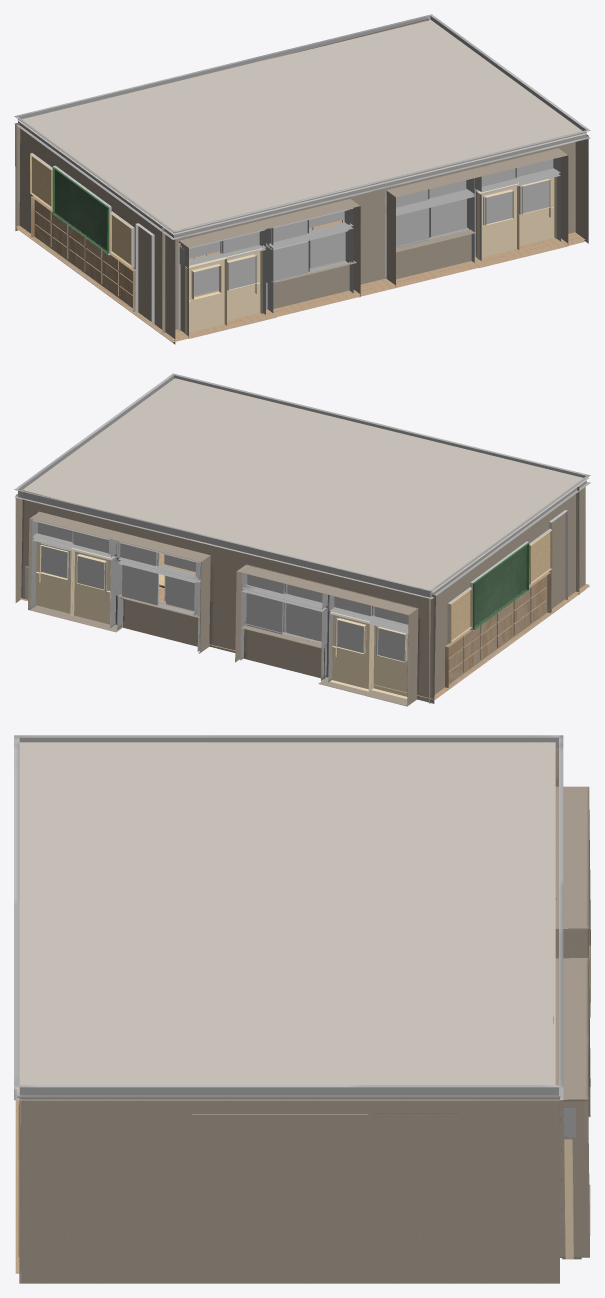
Rendered from layout2.gltf.
3 renders of one model, top to bottom at view 1: azimuth 30°, elevation 25°; view 2: azimuth 150°, elevation 25°; view 3: azimuth 270°, elevation 25°, orthographic. The views are drawn at different scales.
Parts seen in each view (by area): view 1: ROOF:polySurface21, DER_StingrayPBS2_0, BORDE_METAL, NORTHANDSOUTH, MUEBLET2, FLOOR_StingrayPBS10_0.001, TRAS_VERDE, MARCO_DER_N, MARCO_DER_N2, PUERTA_4, PUERTA_3, PUERTA_5 (+18 smaller); view 2: ROOF:polySurface21, DER_StingrayPBS2_0.001, BORDE_METAL, NORTHANDSOUTH, MUEBLET2, TRAS_VERDE, MARCO_DER_N2_StingrayPBS1_0.001, MARCO_DER_N_StingrayPBS1_0.001, PUERTA_3_StingrayPBS9_0.001, PUERTA_5_StingrayPBS9_0.001, PUERTA_4_StingrayPBS9_0.001, PUERTA_1_StingrayPBS9_0.001 (+14 smaller); view 3: ROOF:polySurface21, NORTHANDSOUTH, BORDE_METAL, DER_StingrayPBS2_0.001, PUERTA_4_StingrayPBS9_0.001, DETALLE.
Part boxes in pixels (bbox=[...]): ROOF:polySurface21: bbox=[17, 19, 586, 234]; DER_StingrayPBS2_0: bbox=[162, 142, 575, 338]; BORDE_METAL: bbox=[14, 14, 590, 239]; NORTHANDSOUTH: bbox=[19, 128, 588, 344]; MUEBLET2: bbox=[31, 196, 135, 311]; FLOOR_StingrayPBS10_0.001: bbox=[16, 219, 585, 340]; TRAS_VERDE: bbox=[52, 167, 109, 253]; MARCO_DER_N: bbox=[385, 148, 560, 278]; MARCO_DER_N2: bbox=[178, 208, 353, 330]; PUERTA_4: bbox=[185, 257, 226, 335]; PUERTA_3: bbox=[477, 183, 519, 259]; PUERTA_5: bbox=[225, 248, 262, 320]; ROOF:polySurface21: bbox=[22, 378, 589, 592]; DER_StingrayPBS2_0.001: bbox=[21, 490, 435, 706]; BORDE_METAL: bbox=[14, 373, 590, 599]; NORTHANDSOUTH: bbox=[15, 487, 585, 703]; MUEBLET2: bbox=[445, 572, 550, 687]; TRAS_VERDE: bbox=[473, 543, 529, 629]; MARCO_DER_N2_StingrayPBS1_0.001: bbox=[31, 513, 200, 651]; MARCO_DER_N_StingrayPBS1_0.001: bbox=[240, 564, 416, 682]; PUERTA_3_StingrayPBS9_0.001: bbox=[330, 611, 371, 691]; PUERTA_5_StingrayPBS9_0.001: bbox=[70, 548, 112, 624]; PUERTA_4_StingrayPBS9_0.001: bbox=[35, 540, 74, 616]; PUERTA_1_StingrayPBS9_0.001: bbox=[371, 625, 408, 698]; ROOF:polySurface21: bbox=[15, 742, 555, 1088]; NORTHANDSOUTH: bbox=[19, 748, 559, 1283]; BORDE_METAL: bbox=[14, 735, 563, 1100]; DER_StingrayPBS2_0.001: bbox=[553, 786, 590, 1257]; PUERTA_4_StingrayPBS9_0.001: bbox=[564, 1139, 573, 1259]; DETALLE: bbox=[17, 1095, 560, 1097].
Size of the model in its own units: 12.83 by 3.33 by 8.84.
Materials: 34 (30 with a texture image).
